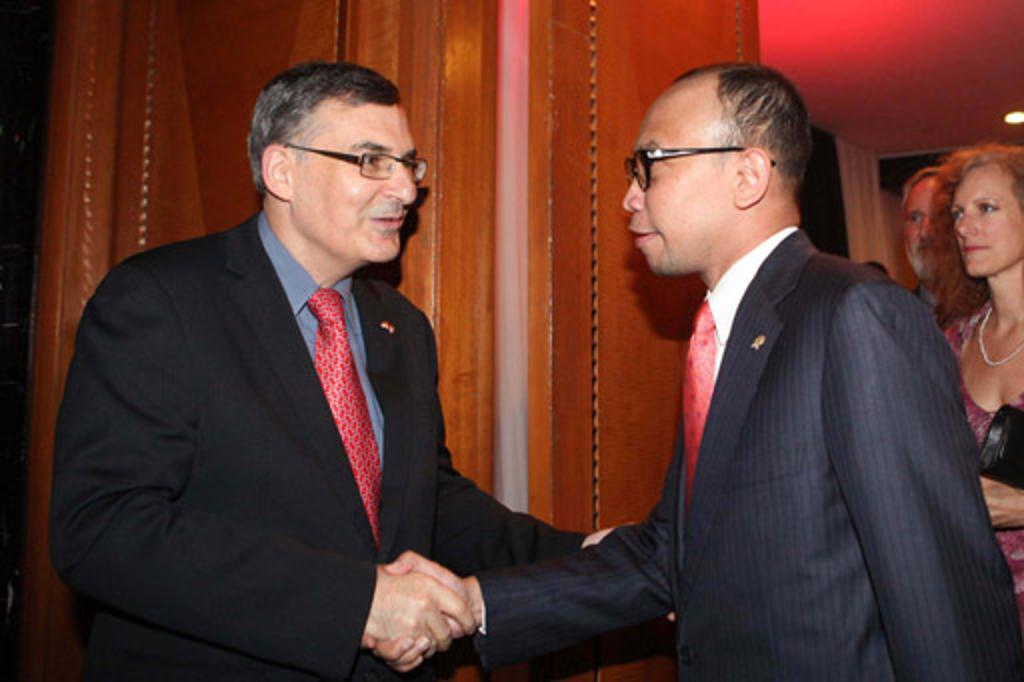face: (626, 84, 736, 268), (296, 104, 416, 260), (956, 164, 1024, 278), (906, 180, 964, 274)
